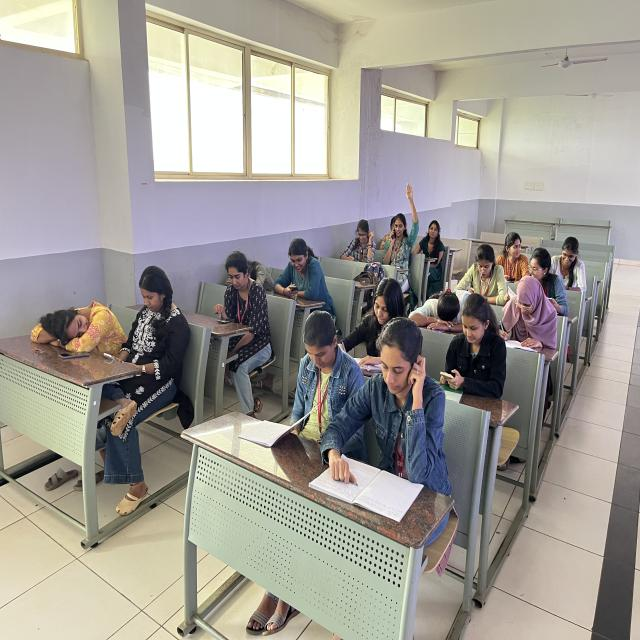Hand Rising: (395, 178, 422, 274)
Reading: (329, 313, 442, 498), (494, 273, 562, 354), (456, 243, 514, 301)
Sleeping: (21, 285, 134, 374), (408, 278, 476, 338)
Using Phone: (94, 264, 190, 427), (211, 248, 276, 372), (435, 288, 507, 397), (272, 226, 331, 307)
Writing: (331, 272, 409, 360)
